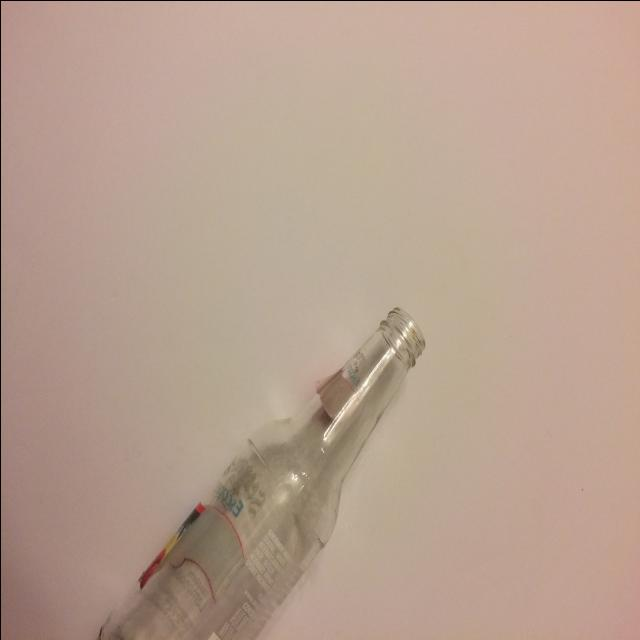glass: (90, 306, 418, 638)
